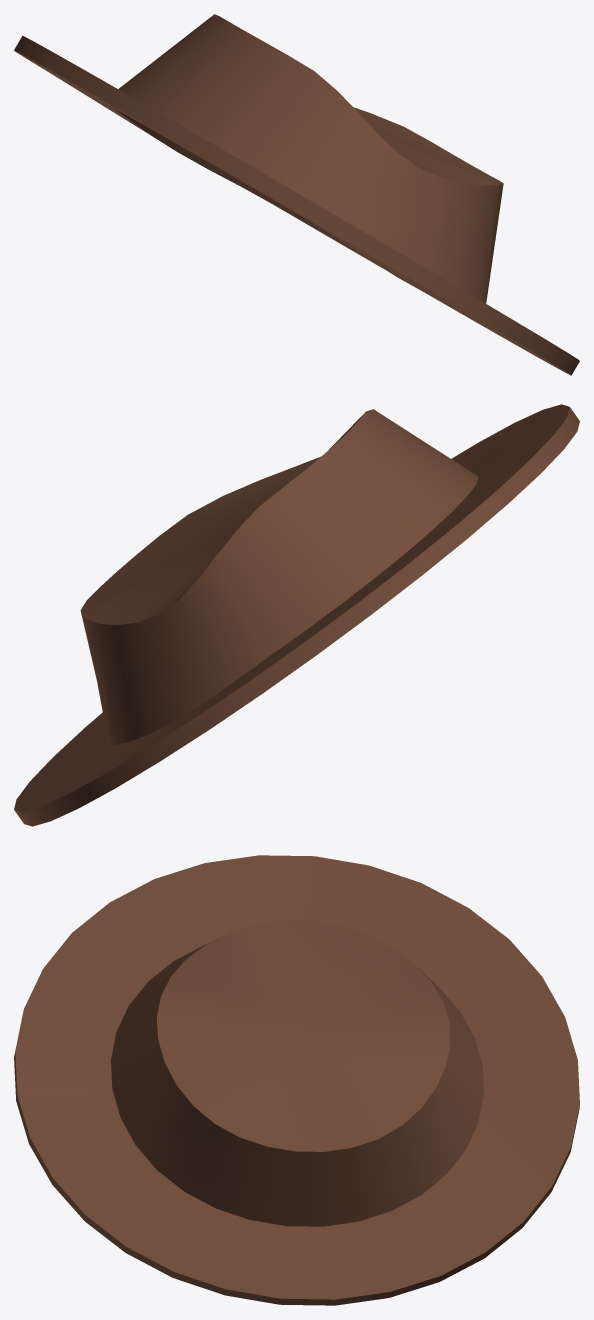
Rendered from Attach_Hat_Cowboy.fbx.
3 views of the same model, one above another, from view 1: azimuth 30°, elevation 25°; view 2: azimuth 150°, elevation 25°; view 3: azimuth 270°, elevation 25° (orthographic). The views are drawn at different scales.
Parts seen in each view (by area): view 1: Attach_Hat_Cowboy; view 2: Attach_Hat_Cowboy; view 3: Attach_Hat_Cowboy.
Boxes of the visible parts, x1,y1,x2,y2 form: Attach_Hat_Cowboy: (14,14,579,375); Attach_Hat_Cowboy: (14,404,579,826); Attach_Hat_Cowboy: (14,855,579,1305).
Size of the model in its own units: 0.7534 by 1.08 by 0.6132.
